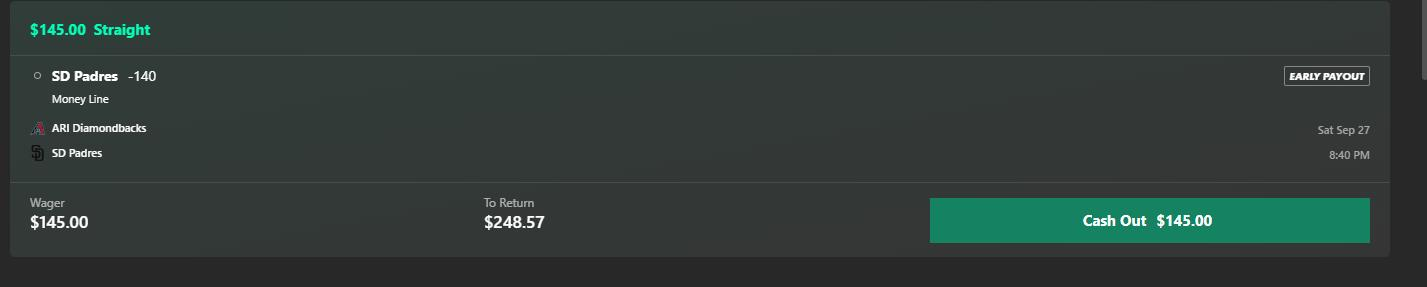game: (48, 120, 150, 161)
odds: (126, 65, 158, 87)
payout: (481, 211, 547, 234)
wager: (29, 213, 90, 235)
